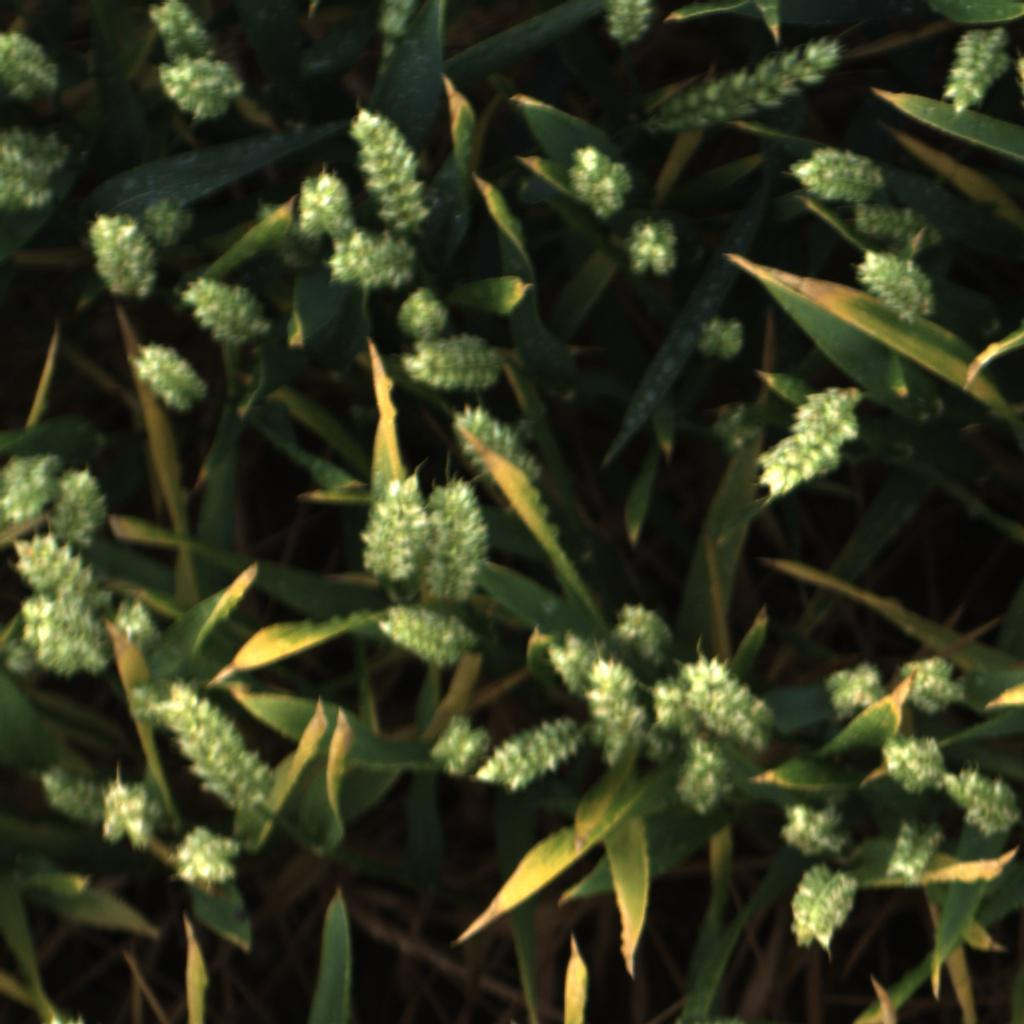0-0: (643, 34, 846, 141), (157, 678, 284, 817), (345, 106, 442, 230), (469, 707, 593, 798), (418, 474, 494, 612), (679, 649, 779, 752), (350, 461, 431, 586), (11, 592, 113, 681), (181, 267, 278, 354), (375, 599, 489, 673), (455, 405, 553, 490), (776, 865, 865, 956), (13, 524, 107, 609), (930, 23, 1013, 116), (83, 209, 163, 303), (321, 228, 433, 292), (852, 249, 941, 329), (394, 330, 507, 393), (124, 338, 211, 416), (586, 656, 648, 765), (757, 427, 849, 498), (154, 51, 246, 121), (0, 126, 74, 212), (787, 144, 888, 207), (940, 765, 1021, 841), (544, 622, 620, 703), (562, 143, 637, 223), (92, 773, 167, 853), (252, 198, 335, 270), (55, 460, 118, 552), (774, 794, 859, 862), (872, 728, 945, 804), (0, 18, 61, 105), (669, 742, 737, 818), (788, 382, 866, 448), (36, 761, 112, 828), (173, 824, 247, 892), (1, 446, 59, 532), (612, 597, 681, 669), (293, 167, 359, 242), (881, 815, 945, 890), (146, 1, 220, 63), (427, 712, 493, 779), (848, 200, 946, 245), (817, 658, 887, 720), (899, 650, 966, 714), (393, 283, 455, 347), (644, 676, 705, 738), (625, 217, 680, 276), (136, 197, 195, 250), (709, 399, 766, 453), (694, 313, 748, 364), (113, 594, 163, 649), (126, 678, 179, 729), (601, 0, 654, 47), (635, 719, 678, 770), (376, 0, 417, 39)
